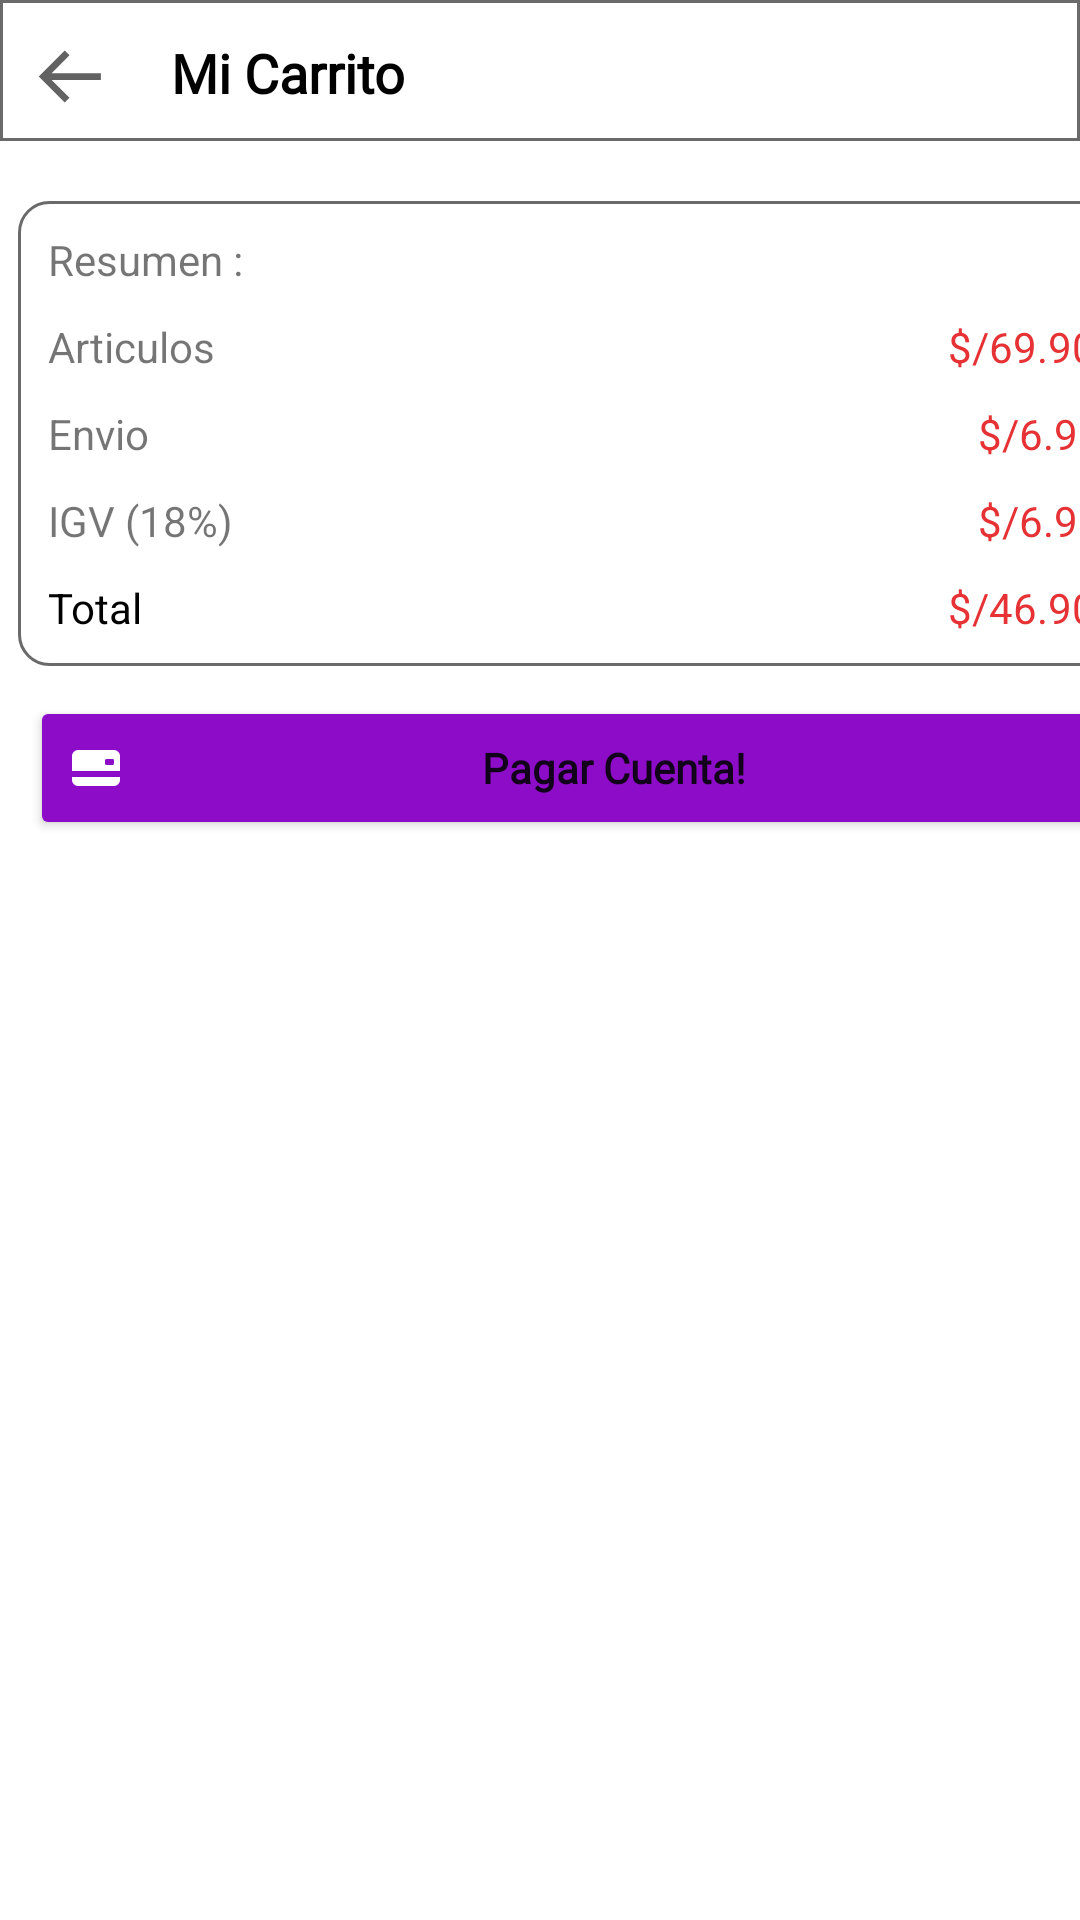

Screen size 1080x1920. Icon name, then its center in pixels as [x,y]:
arrow back: [70,76]
